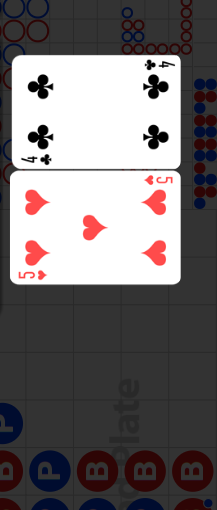4C: (20, 151, 54, 166)
5H: (17, 269, 49, 281)
